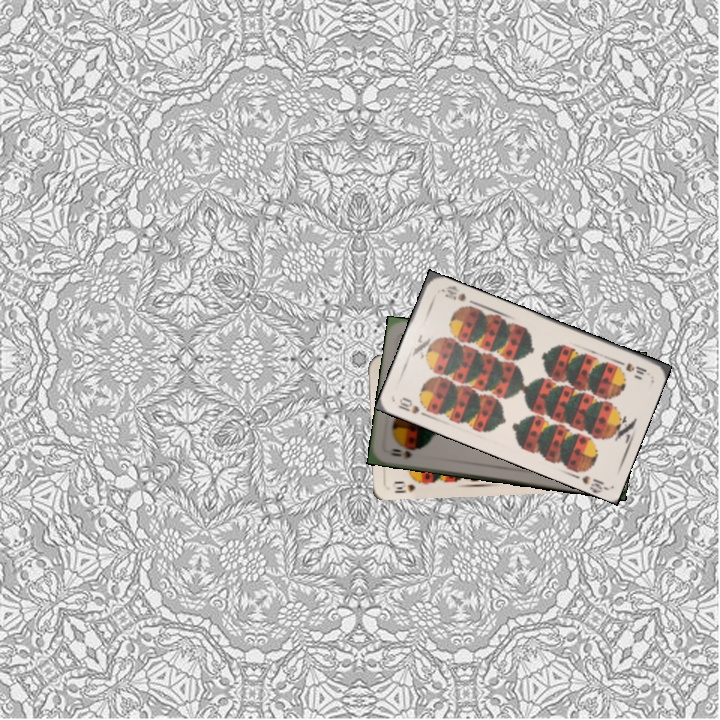S10: (394, 393, 433, 420), (612, 356, 649, 378), (390, 476, 426, 496)
SO: (384, 445, 415, 462)
